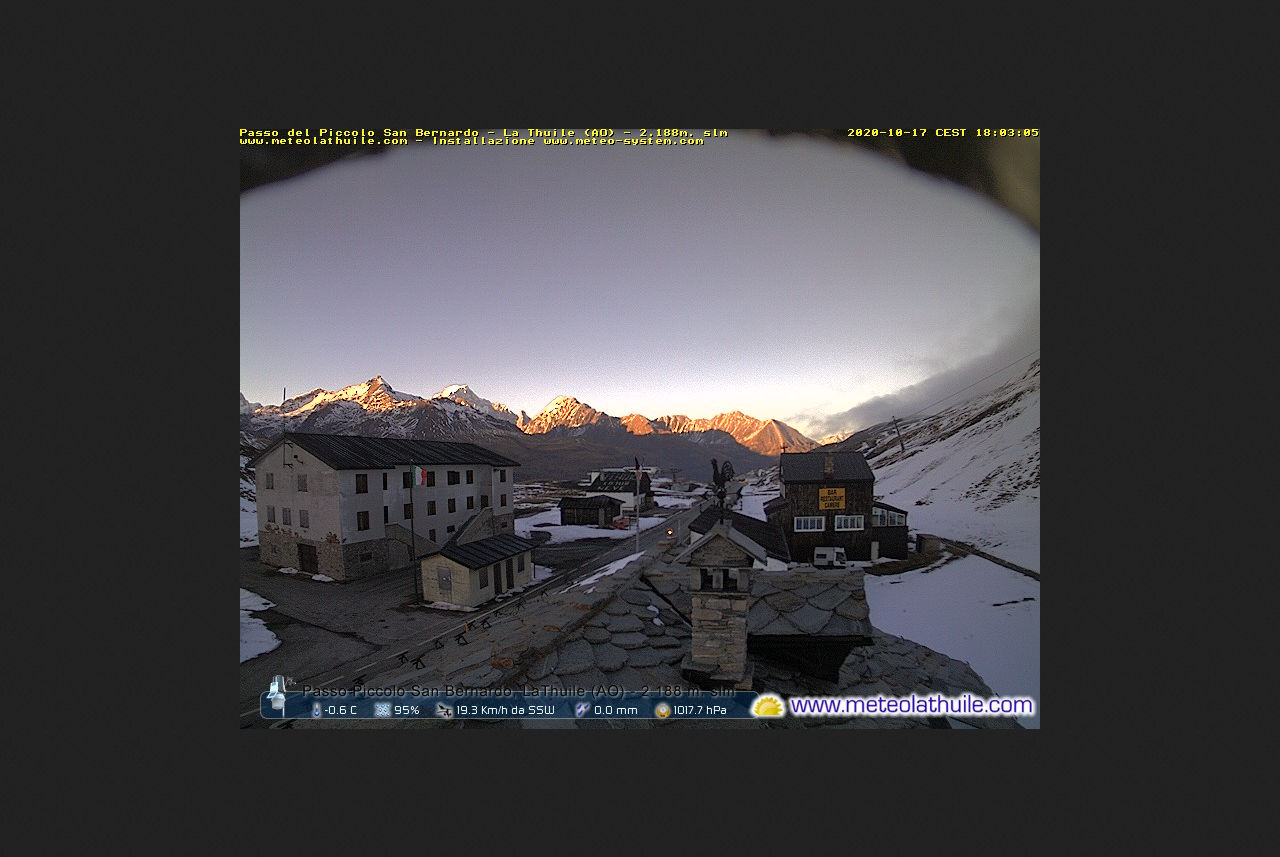no: (634, 459, 641, 481)
yes: (414, 465, 428, 486)
